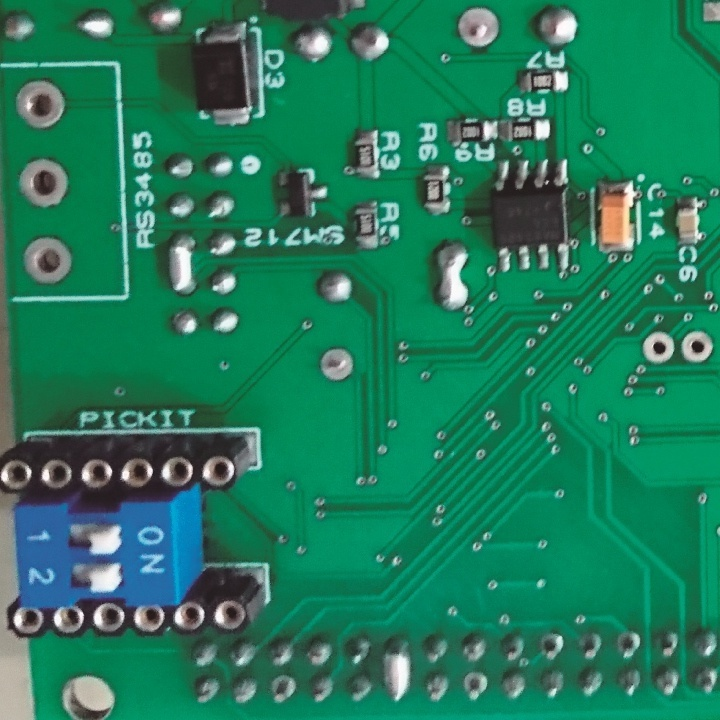F: (22, 231, 78, 289), (16, 76, 69, 133), (19, 158, 71, 209), (453, 7, 504, 53), (316, 346, 357, 383), (679, 327, 716, 366), (641, 329, 676, 363), (458, 669, 492, 703), (264, 672, 298, 705), (611, 627, 641, 661), (537, 630, 567, 663)
P: (435, 240, 471, 312), (164, 228, 200, 298), (379, 634, 413, 705)
